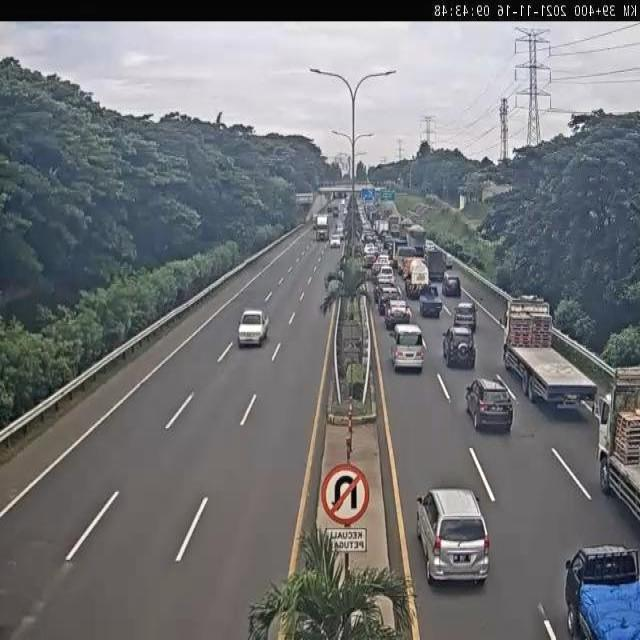Car: (412, 490, 493, 588), (464, 379, 516, 434), (439, 325, 476, 373), (236, 308, 272, 347), (384, 297, 410, 332), (452, 301, 478, 329), (376, 286, 400, 308), (444, 273, 462, 298), (375, 266, 395, 284), (329, 235, 341, 250)
Truck: (502, 291, 598, 408), (561, 548, 640, 640), (596, 356, 640, 521), (401, 256, 430, 296), (418, 284, 443, 317), (405, 224, 430, 250), (425, 251, 446, 279), (316, 216, 328, 239)
Van: (388, 324, 426, 377)
